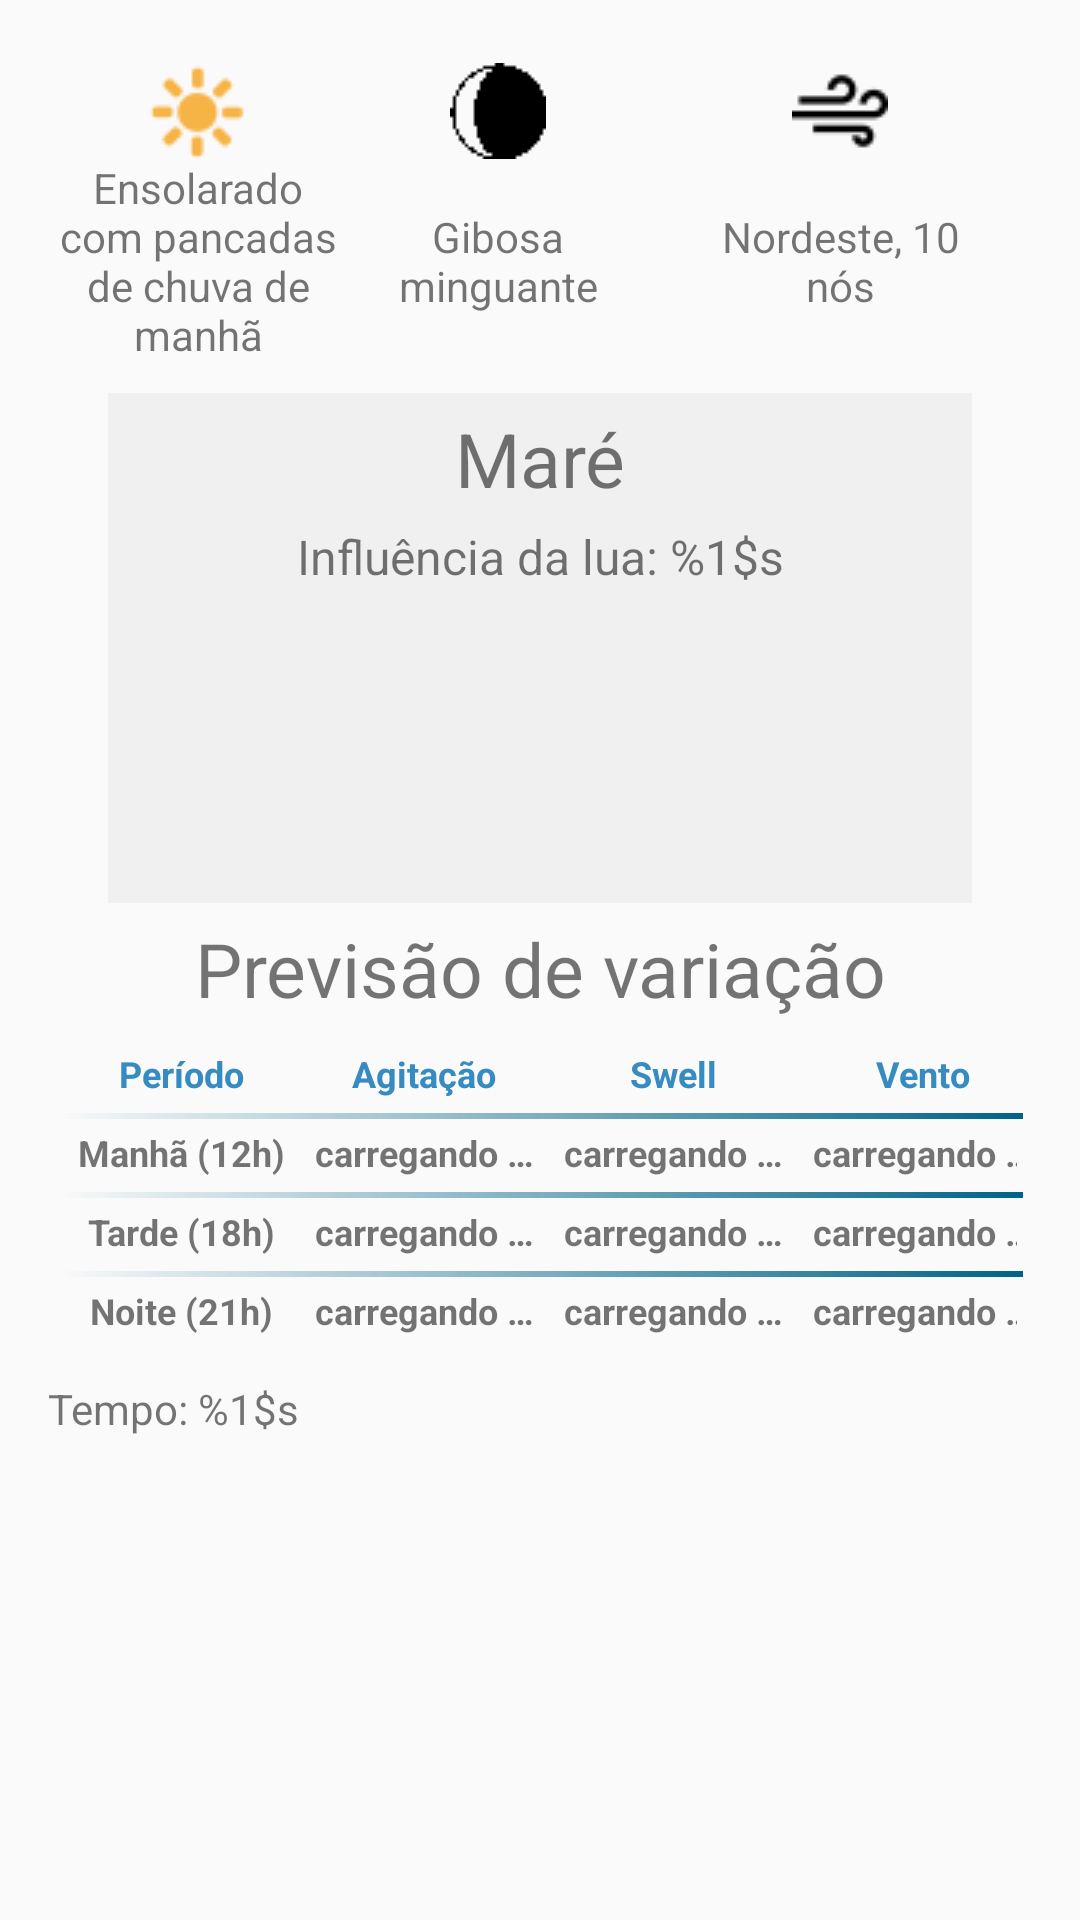

Named icons in this screenshot (1080px×1920px) and their centers, (x,y):
moon: (498,111)
sun: (197,111)
wind: (840,111)
